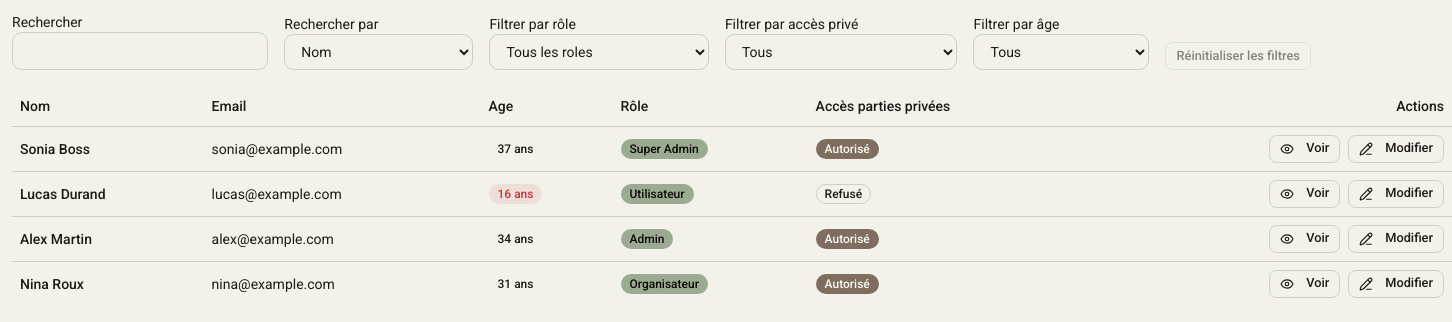
Test: UserTable › renders users, highlights minors, and filters by role/private access
Expected: the text "Alex Martin" is shown, 12,216 -> 204,261
Expected: the text "Lucas Durand" is shown, 12,171 -> 204,216
Select "Admin" in the dropdown labelled "Filtrer par rôle" at (599, 52), box 489,34 -> 709,70
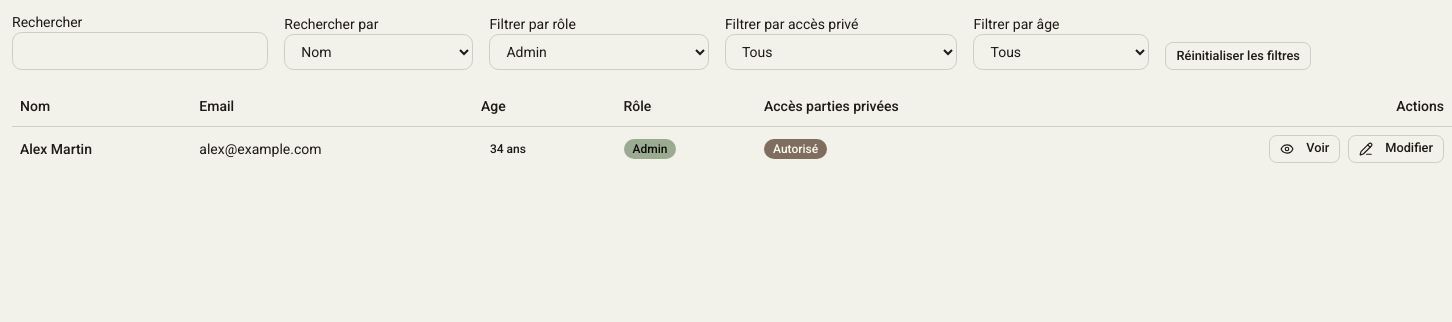
Expected: the text "Alex Martin" is shown, 12,126 -> 191,170
Result: the text "Lucas Durand" is gone
Result: the text "Nina Roux" is gone
Select "Tous les roles" in the dropdown labelled "Filtrer par rôle" at (599, 52), box 489,34 -> 709,70
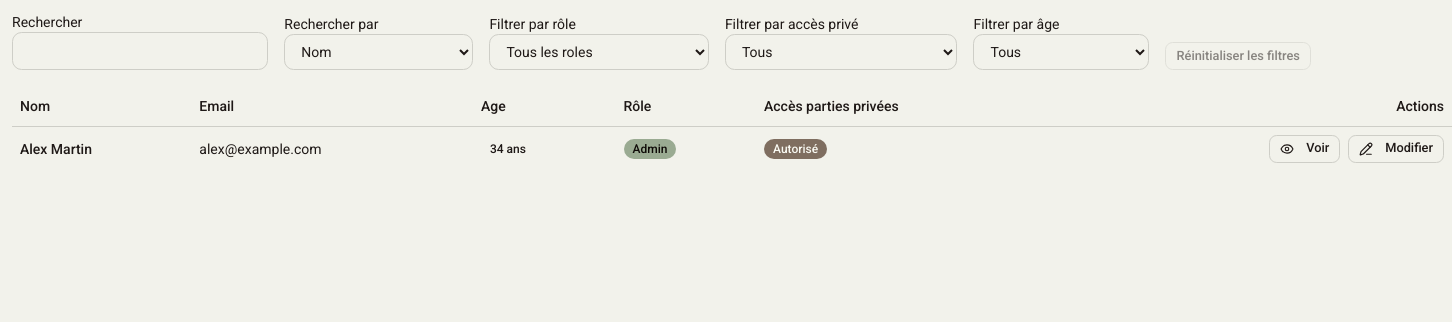
Select "Refusé" in the dropdown labelled "Filtrer par accès privé" at (841, 52), box 725,34 -> 958,70
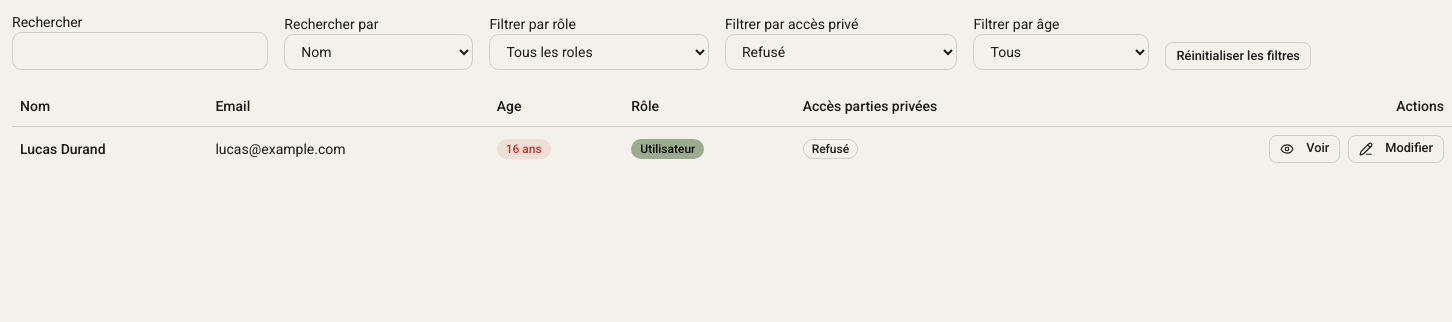
Expected: the text "Nina Roux" is not shown
Result: the text "Lucas Durand" is shown at 12,126 -> 207,170
Result: the text "Alex Martin" is gone
